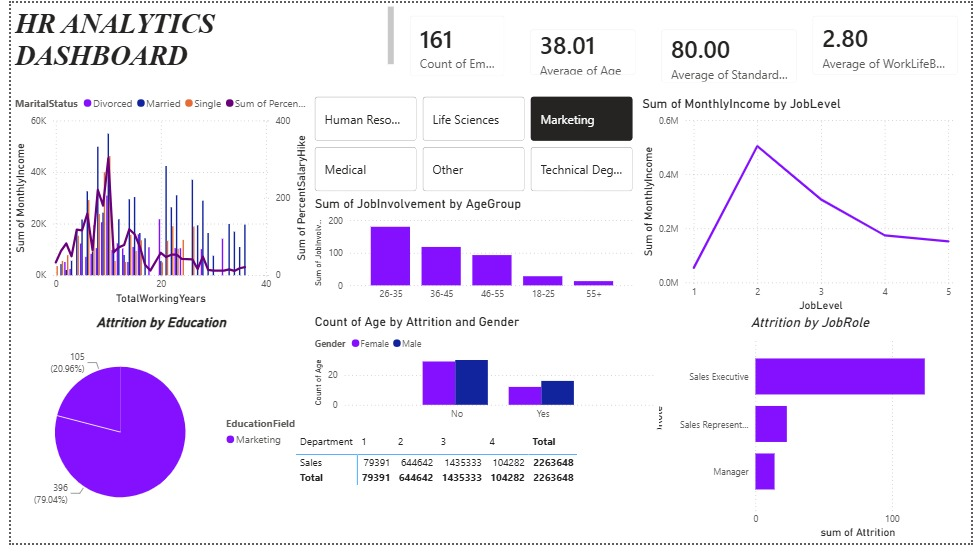

Layout of this report page (visuals, bound fields, positions):
{"tool":"powerbi","page":{"name":"Page 1","canvas":[1280,720],"ordinal":0},"visuals":[{"type":"pieChart","title":"Attrition by Education","fields":{"Category":["HR_Analytics.EducationField"],"Y":["Sum(HR_Analytics.Education)"],"Series":["HR_Analytics.Attrition"]},"box":[0,415.8,400.7,293.7],"z":0},{"type":"clusteredBarChart","title":"Attrition by JobRole","fields":{"Category":["HR_Analytics.JobRole"],"Y":["CountNonNull(HR_Analytics.Attrition)"]},"box":[849.4,415.8,430.9,304.6],"z":1000},{"type":"clusteredColumnChart","fields":{"Category":["HR_Analytics.Attrition"],"Y":["Count(HR_Analytics.Age)"],"Series":["HR_Analytics.Gender"]},"box":[400.7,415.8,463.8,150.9],"z":2000},{"type":"lineClusteredColumnComboChart","fields":{"Category":["HR_Analytics.TotalWorkingYears"],"Y2":["Sum(HR_Analytics.PercentSalaryHike)"],"Series":["HR_Analytics.MaritalStatus"],"Y":["Sum(HR_Analytics.MonthlyIncome)"]},"box":[0,113.3,400,293.3],"z":4000},{"type":"cardVisual","fields":{"Data":["CountNonNull(HR_Analytics.EmployeeNumber)"]},"box":[515,0,160,115],"z":4001},{"type":"cardVisual","fields":{"Data":["Avg(HR_Analytics.Age)"]},"box":[675,18.3,175,95],"z":4002},{"type":"cardVisual","fields":{"Data":["Avg(HR_Analytics.StandardHours)"]},"box":[850,18.3,215,105],"z":4003},{"type":"cardVisual","fields":{"Data":["Avg(HR_Analytics.WorkLifeBalance)"]},"box":[1051.7,0,228.3,113.3],"z":4004},{"type":"textbox","box":[0,0,515,91.7],"z":4005},{"type":"lineChart","fields":{"Y":["Sum(HR_Analytics.MonthlyIncome)"],"Category":["HR_Analytics.JobLevel"]},"box":[836.7,123.3,428.3,293.3],"z":4006},{"type":"pivotTable","fields":{"Rows":["HR_Analytics.Department"],"Values":["Sum(HR_Analytics.MonthlyRate)"],"Columns":["HR_Analytics.JobInvolvement"]},"box":[375,568.3,515,145],"z":4007},{"type":"advancedSlicerVisual","fields":{"Values":["HR_Analytics.EducationField"]},"box":[400,120,436.7,136.7],"z":4008},{"type":"columnChart","fields":{"Category":["HR_Analytics.AgeGroup"],"Y":["Sum(HR_Analytics.JobInvolvement)"]},"box":[400,257,437,150],"z":4009}]}

Visuals, with their boxes in screenshot pixels (x1, y1, x2, y2), scaled from the page's 1280x720 canvas onto the 973x553 screenshot:
"Attrition by Education" pieChart: x1=0 y1=319 x2=305 y2=545
"Attrition by JobRole" clusteredBarChart: x1=646 y1=319 x2=972 y2=552
clusteredColumnChart - HR_Analytics.Attrition x Count(HR_Analytics.Age): x1=305 y1=319 x2=657 y2=435
lineClusteredColumnComboChart - HR_Analytics.TotalWorkingYears x Sum(HR_Analytics.PercentSalaryHike): x1=0 y1=87 x2=304 y2=312
cardVisual - CountNonNull(HR_Analytics.EmployeeNumber): x1=391 y1=0 x2=513 y2=88
cardVisual - Avg(HR_Analytics.Age): x1=513 y1=14 x2=646 y2=87
cardVisual - Avg(HR_Analytics.StandardHours): x1=646 y1=14 x2=810 y2=95
cardVisual - Avg(HR_Analytics.WorkLifeBalance): x1=799 y1=0 x2=972 y2=87
textbox: x1=0 y1=0 x2=391 y2=70
lineChart - Sum(HR_Analytics.MonthlyIncome) x HR_Analytics.JobLevel: x1=636 y1=95 x2=962 y2=320
pivotTable - HR_Analytics.Department x Sum(HR_Analytics.MonthlyRate): x1=285 y1=436 x2=677 y2=548
advancedSlicerVisual - HR_Analytics.EducationField: x1=304 y1=92 x2=636 y2=197
columnChart - HR_Analytics.AgeGroup x Sum(HR_Analytics.JobInvolvement): x1=304 y1=197 x2=636 y2=313
